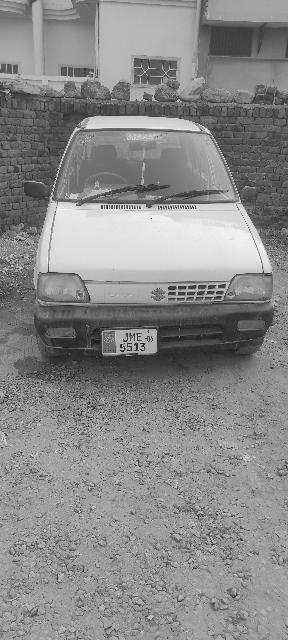Number: (117, 331, 149, 354)
